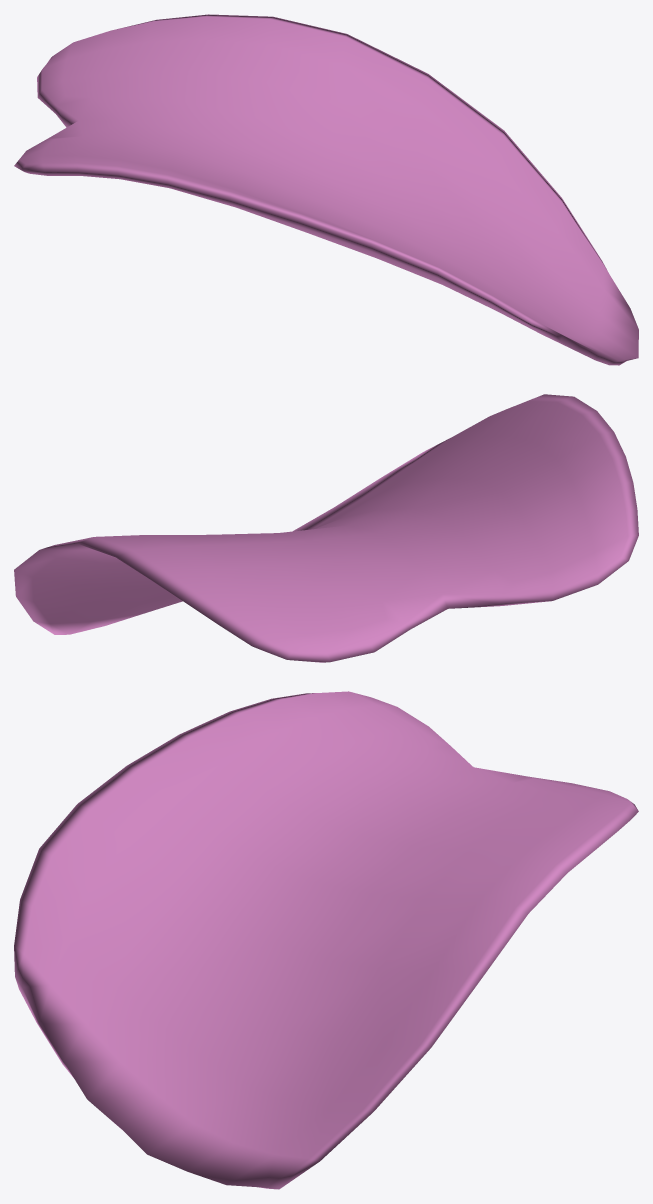
Rendered from pedal_v2.dae.
3 views of the same model, one above another, from view 1: azimuth 30°, elevation 25°; view 2: azimuth 150°, elevation 25°; view 3: azimuth 270°, elevation 25° (orthographic). The views are drawn at different scales.
Visible parts, largest first — view 1: polySurface1; view 2: polySurface1; view 3: polySurface1.
Boxes of the visible parts, x1,y1,x2,y2 form: polySurface1: (14,14,638,365); polySurface1: (14,394,638,662); polySurface1: (14,691,638,1189).
Bounding box in the file's own units: 3.93 × 1.78 × 3.94.
